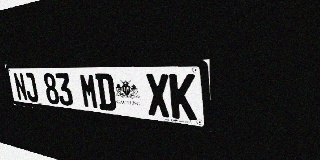3: (55, 73, 74, 106)
8: (42, 73, 60, 105)
D: (95, 73, 117, 111)
J: (23, 73, 39, 102)
K: (169, 74, 197, 121)
M: (79, 73, 99, 109)
N: (13, 73, 28, 101)
X: (145, 74, 171, 118)
